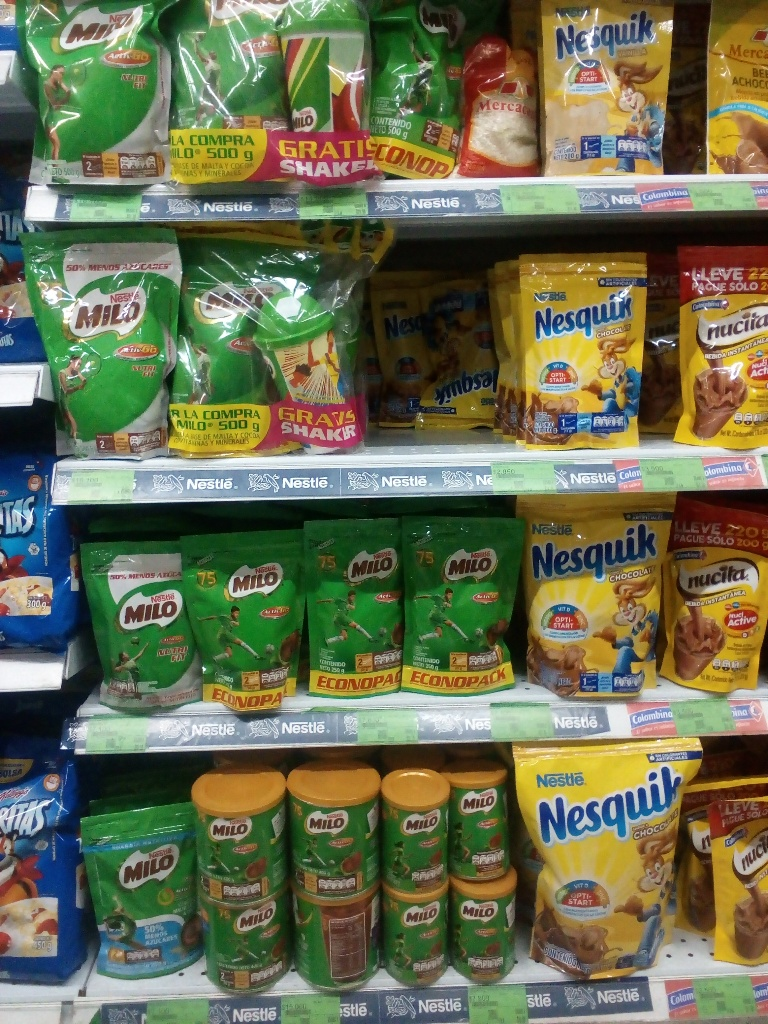COL0170203DYP25000: (402, 513, 519, 690)
COL0170203DYP50000: (175, 235, 273, 406)
COL0170203LAT20000: (446, 869, 517, 984)
COL0170203LAT40000: (284, 893, 381, 993)
COL0170205DYP20000: (77, 538, 208, 710)
COL0170205DYP50000: (15, 0, 171, 186)
COL0170303DYP20000: (516, 254, 645, 454)
COL0170306DYP20000: (538, 0, 673, 176)
